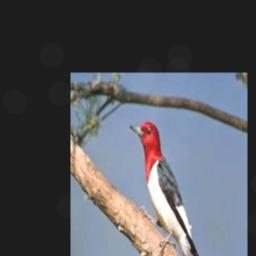Woodpecker: (129, 120, 201, 256)
